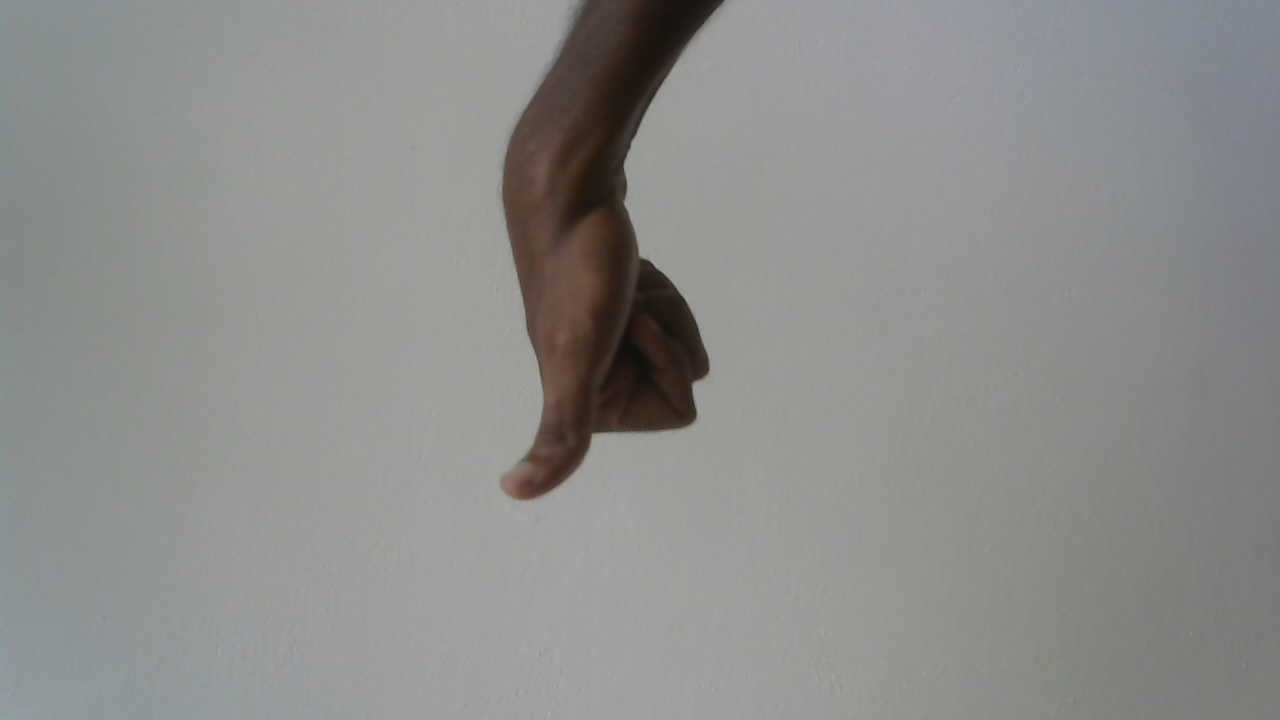thumbsdown: (472, 151, 742, 532)
